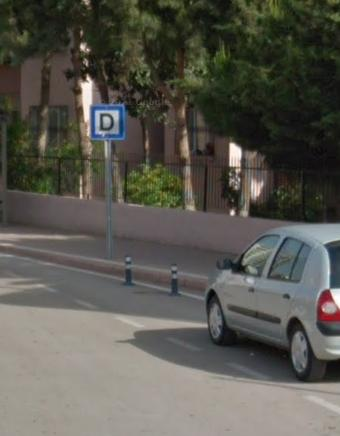station: (90, 104, 124, 138)
